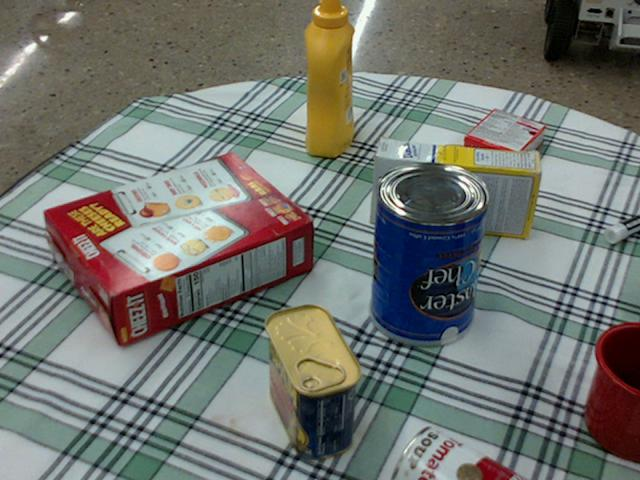cracker_box: (43, 154, 309, 345)
gelatin_box: (462, 108, 544, 172)
large_marker: (603, 213, 639, 242)
master_chef_can: (369, 161, 491, 344)
mug: (583, 321, 639, 460)
mustard_bottle: (304, 0, 354, 156)
potted_meat_can: (264, 304, 361, 458)
sugar_box: (370, 139, 541, 238)
tomato_soup_can: (392, 427, 525, 479)
